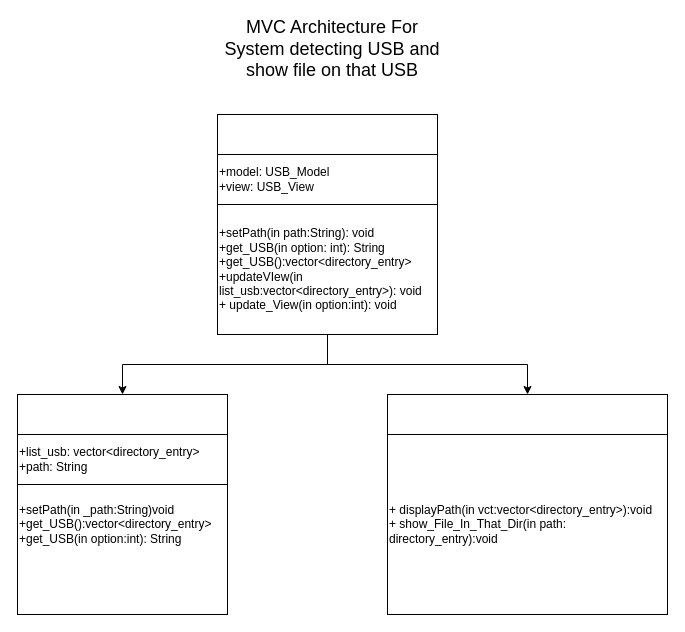
The diagram is 685 pixels wide and 632 high, and some of its shapes have lost their labels. The shapes that lost their labels are listed below. From the top down, each one's centre as x and y in pixels, then its label:
the point at 327,134: USB_Controller
the point at 122,414: USB_Model
the point at 527,414: USB_View
